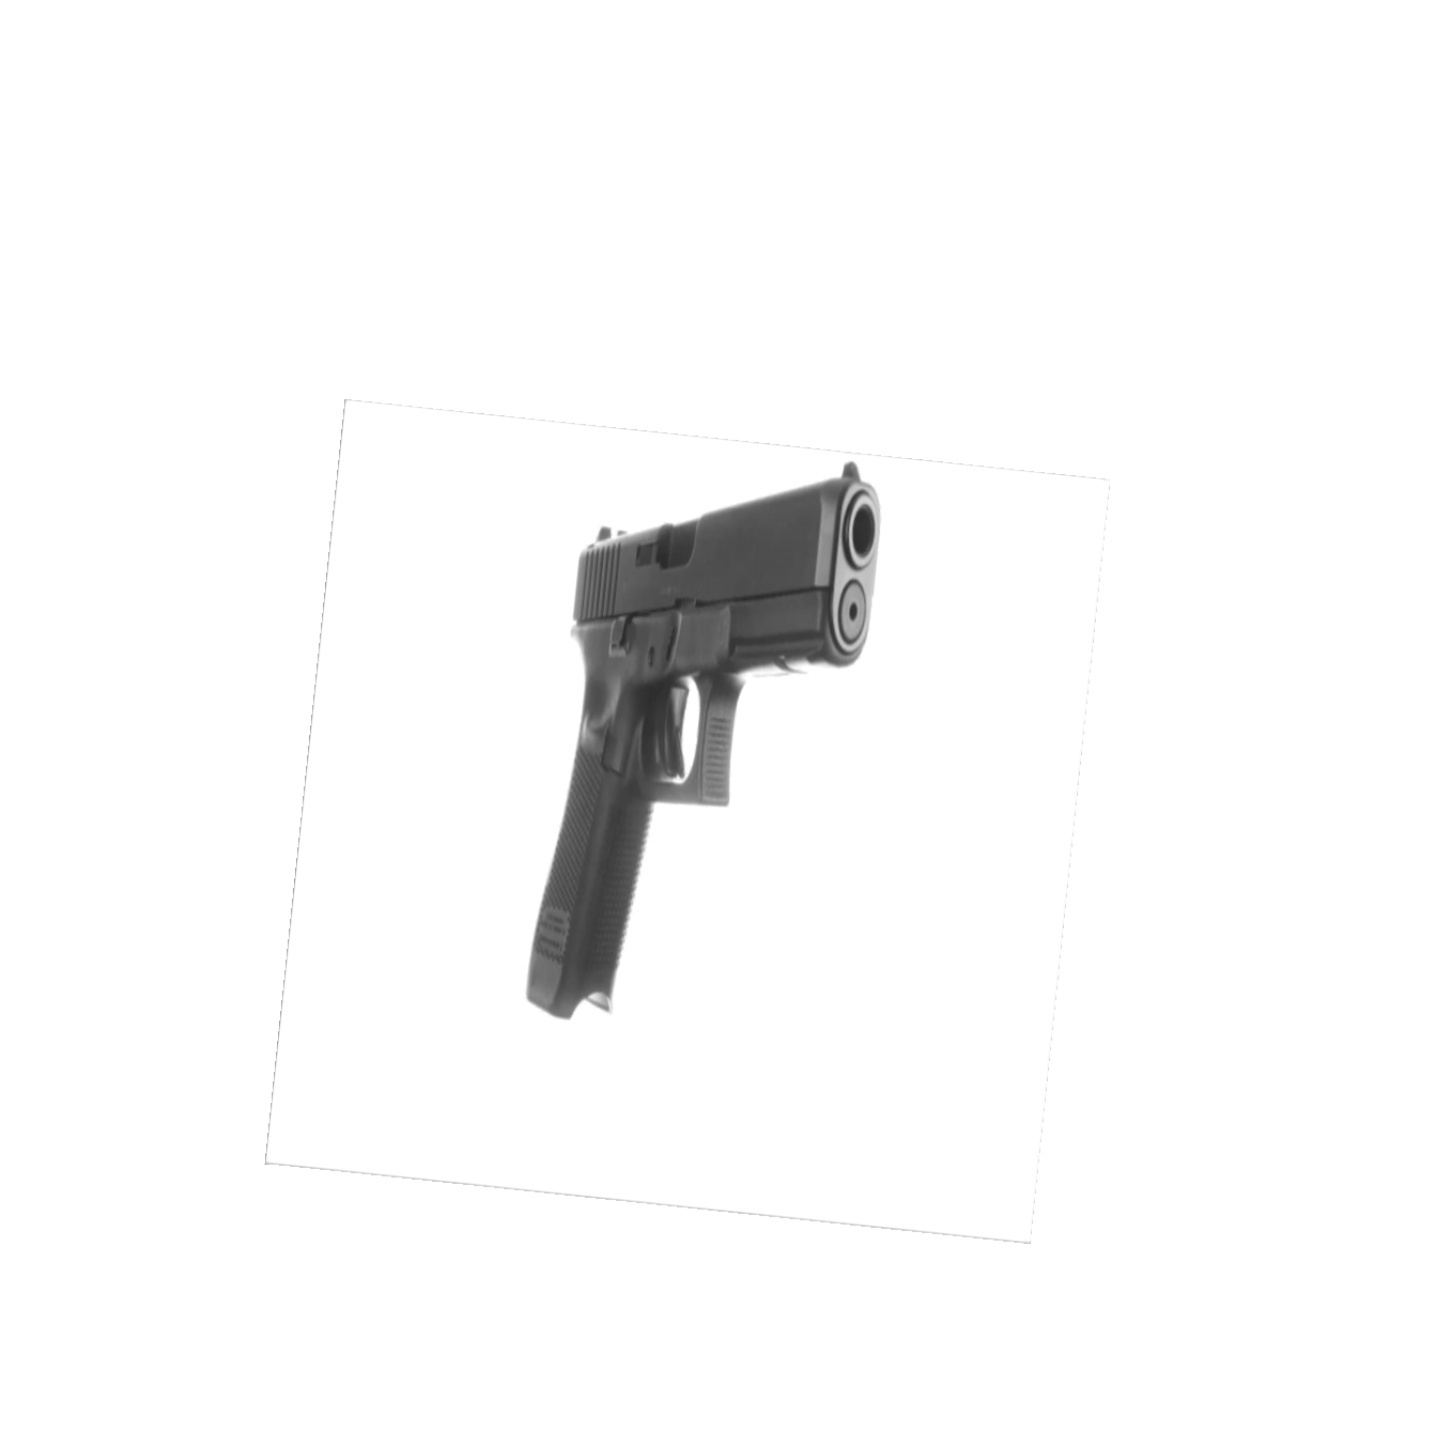gun: (511, 458, 911, 1019)
